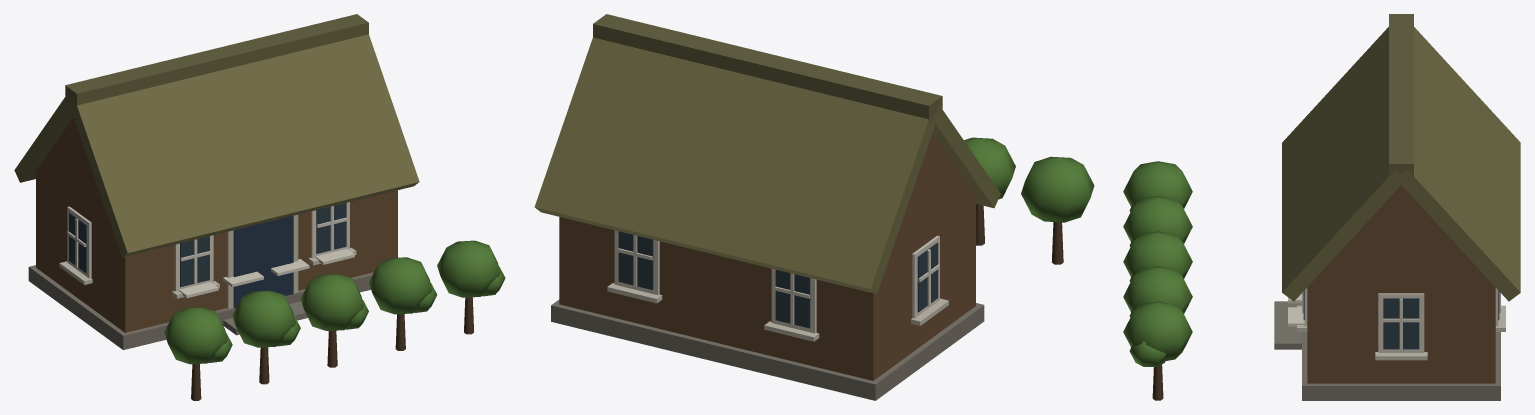
File: procedural_silk_farm@3.glb
3 views of the same model, side by side, from view 1: azimuth 30°, elevation 25°; view 2: azimuth 150°, elevation 25°; view 3: azimuth 270°, elevation 25° (orthographic). The views are drawn at different scales.
Visible parts, largest first — view 1: part_0; view 2: part_0; view 3: part_0.
Part boxes in pixels (x1,y1,x2,y2): part_0: (14, 14, 505, 400); part_0: (534, 14, 1094, 400); part_0: (1123, 14, 1520, 400).
Bounding box in the file's own units: 7.26 × 4.78 × 7.19.
